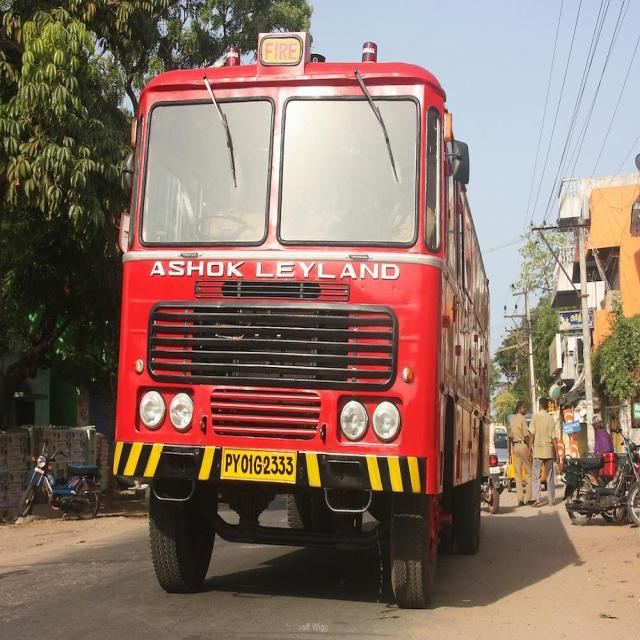emergency: (114, 31, 489, 607)
motorcycle: (562, 431, 640, 525), (19, 441, 100, 519)
